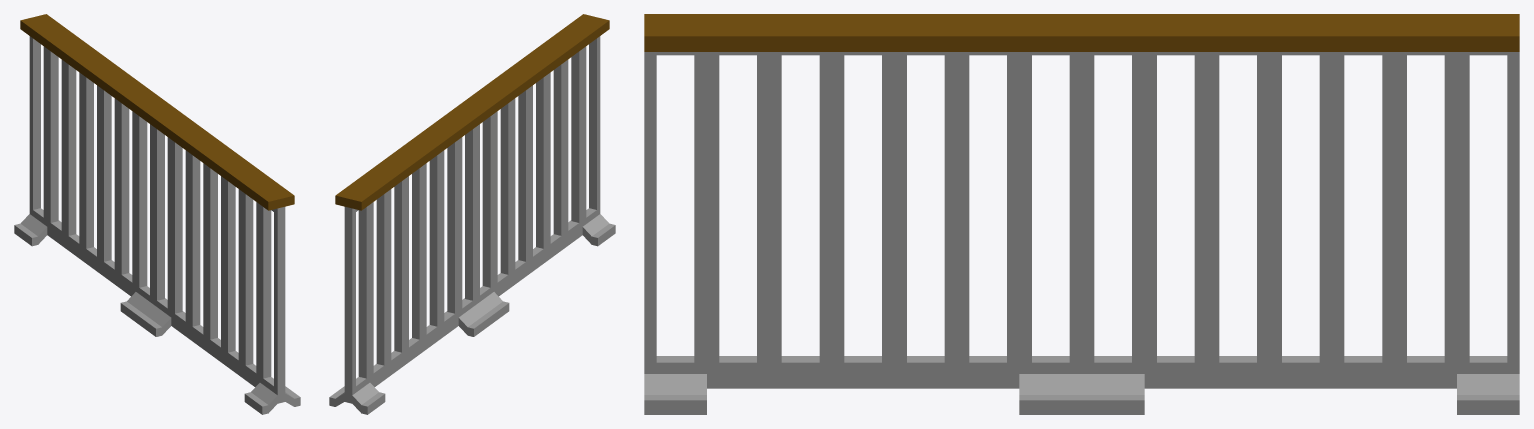
The model's file is Road Fence 1.fbx.
3 renders of one model, left to right at view 1: azimuth 30°, elevation 25°; view 2: azimuth 150°, elevation 25°; view 3: azimuth 270°, elevation 25°, orthographic. The views are drawn at different scales.
Visible parts, largest first — view 1: Road Fence 1; view 2: Road Fence 1; view 3: Road Fence 1.
Boxes of the visible parts, bbox=[...] form: Road Fence 1: bbox=[14, 14, 300, 414]; Road Fence 1: bbox=[329, 14, 615, 414]; Road Fence 1: bbox=[644, 14, 1519, 414].
Size of the model in its own units: 0.187 by 2.1 by 0.9868.
